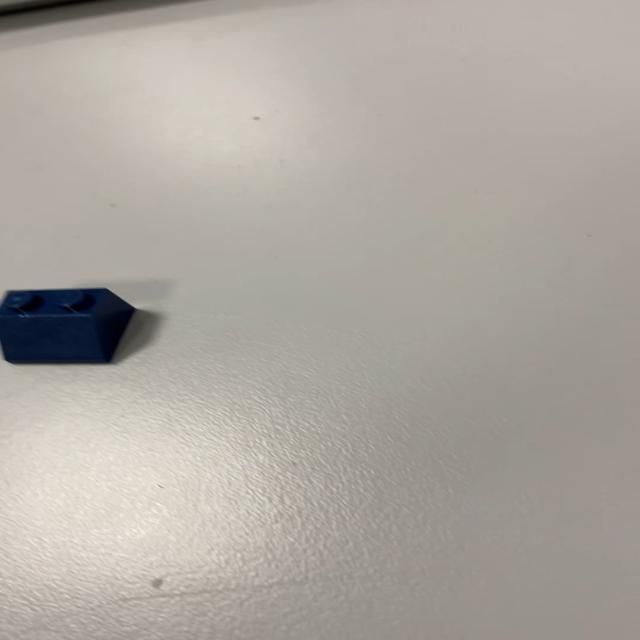P2x2x1: (1, 286, 136, 364)
